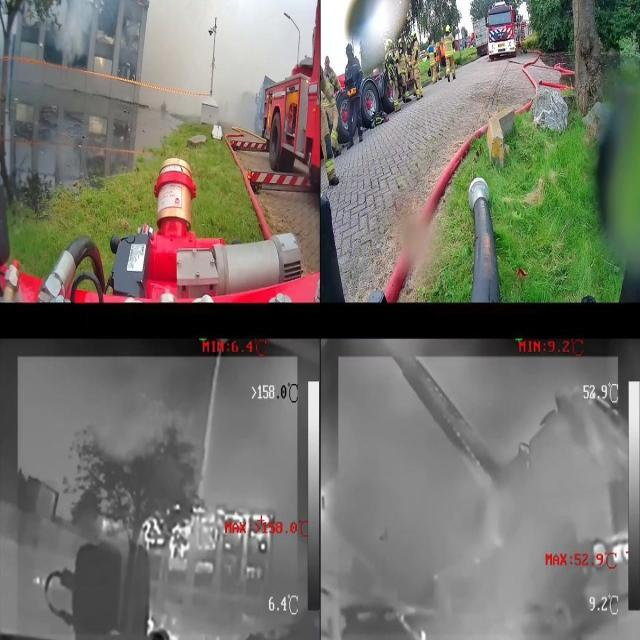Fire: (95, 56, 104, 68)
Smoke: (54, 0, 93, 67)
